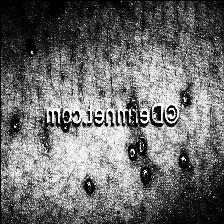Toxin: (128, 136, 151, 184), (178, 152, 188, 168), (84, 178, 93, 195), (117, 220, 125, 224)
